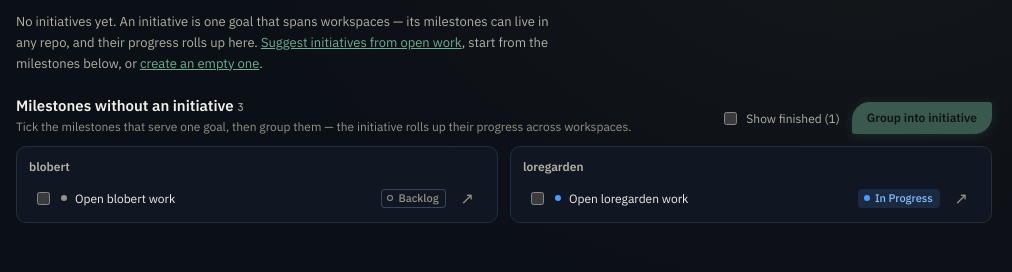
Test case: milestones with no initiative are listed by workspace, finished ones hidden
The width and height of the screenshot is (1012, 272).
Expected: the heading "blobert" is shown, left=29, top=159, right=70, bottom=174
Expected: the text "Open loregarden work" is shown, left=569, top=191, right=688, bottom=206
Click the checkbox labelled "Show finished (1)". click: (731, 118)
box: left=724, top=112, right=737, bottom=125
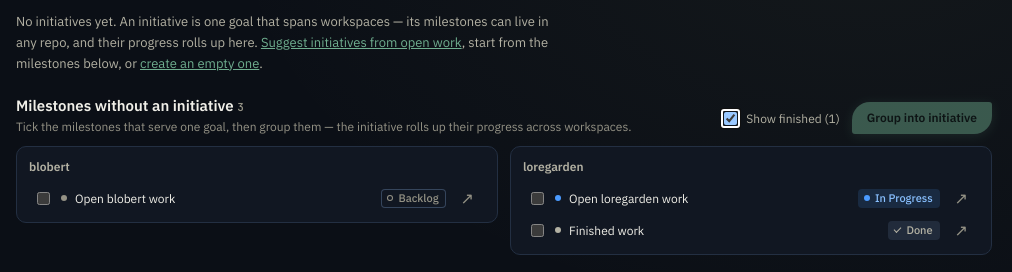
Expected: the text "Finished work" is shown, left=569, top=223, right=644, bottom=238
